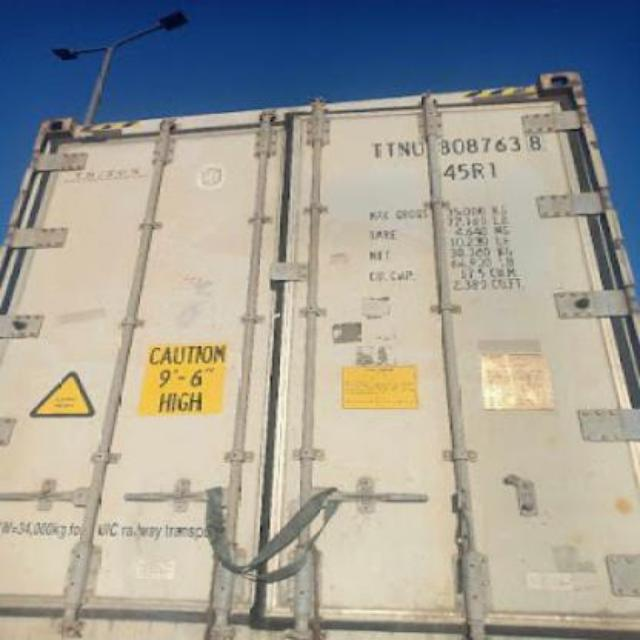0: (452, 138, 468, 154)
3: (510, 134, 522, 154)
6: (494, 135, 508, 155)
7: (478, 135, 492, 153)
8: (528, 133, 544, 153), (434, 140, 452, 154), (466, 136, 478, 154)
N: (398, 141, 410, 157)
T: (372, 142, 384, 162), (384, 139, 396, 159)
U: (410, 138, 426, 156)
